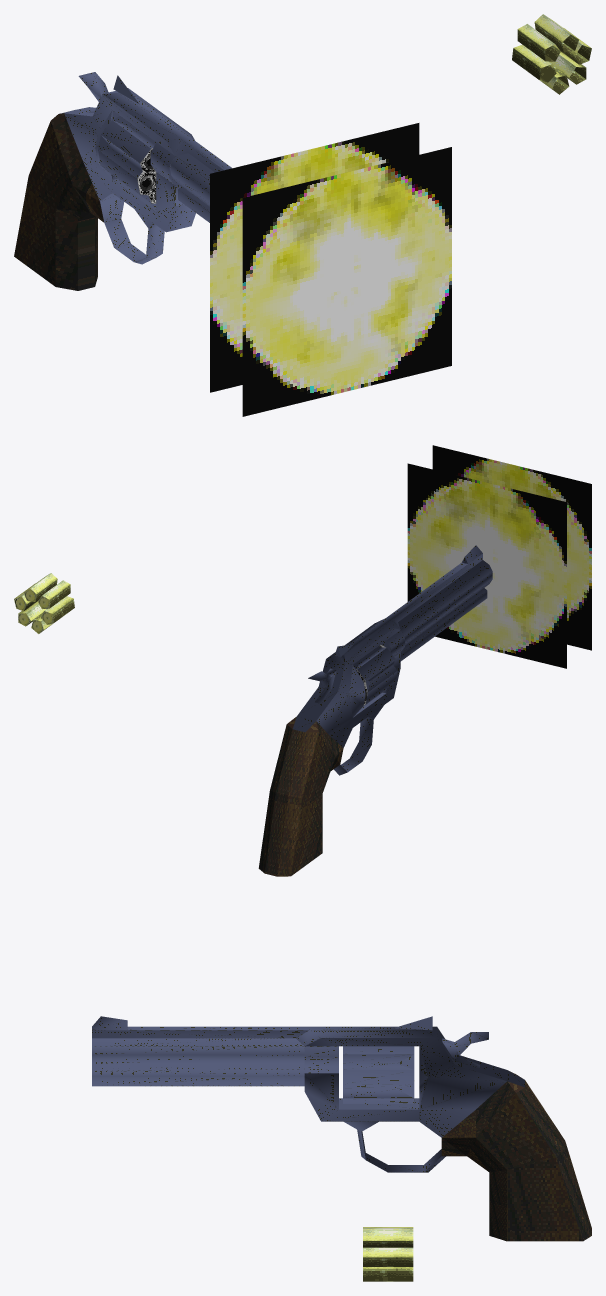
File: Gun0008.obj
The picture shows the model from 3 angles, top to bottom: view 1: azimuth 30°, elevation 25°; view 2: azimuth 150°, elevation 25°; view 3: azimuth 270°, elevation 25°; orthographic projection. The views are drawn at different scales.
Parts seen in each view (by area): view 1: Room02_primary, Room03_primary, Room06_primary, Room36_primary, Room38_primary, Room40_primary, Room05_primary, Room3C_primary; view 2: Room02_primary, Room03_primary, Room06_primary; view 3: Room03_primary, Room06_primary, Room3E_primary, Room40_primary, Room3C_primary.
Part boxes in pixels (x1,y1,x2,y2): Room02_primary: (210, 123, 451, 416); Room03_primary: (14, 72, 231, 290); Room06_primary: (98, 116, 155, 202); Room36_primary: (517, 24, 560, 61); Room38_primary: (512, 44, 556, 82); Room40_primary: (534, 14, 578, 52); Room05_primary: (137, 148, 156, 203); Room3C_primary: (549, 51, 586, 84); Room02_primary: (407, 445, 591, 668); Room03_primary: (258, 545, 492, 876); Room06_primary: (353, 646, 397, 707); Room03_primary: (92, 1016, 591, 1241); Room06_primary: (343, 1046, 414, 1103); Room3E_primary: (363, 1247, 413, 1266); Room40_primary: (363, 1230, 413, 1247); Room3C_primary: (363, 1267, 413, 1281).
Size of the model in its own units: 382 by 208 by 388.
142 materials, 142 textured.
